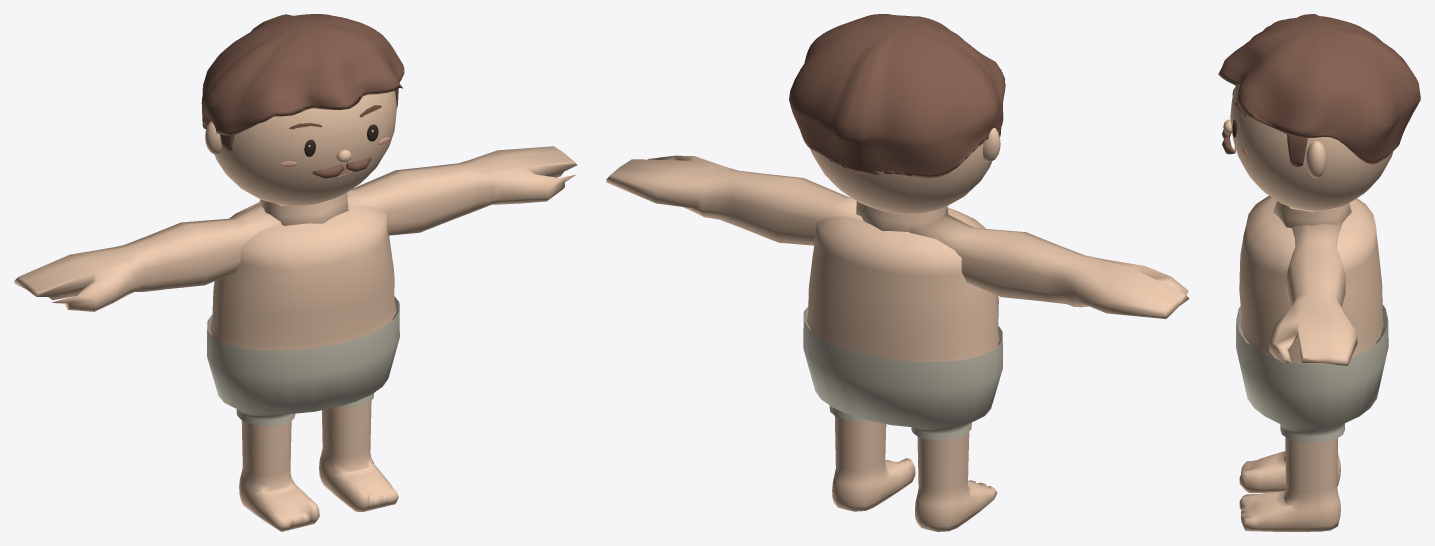
File: 1 karakter.fbx
3 renders of one model, left to right at view 1: azimuth 30°, elevation 25°; view 2: azimuth 150°, elevation 25°; view 3: azimuth 270°, elevation 25°, orthographic. The views are drawn at different scales.
Visible parts, largest first — view 1: Erkek – İç Çamaşırlı – Karakter_1_İç_Çamaşırlı_Karakter, Erkek – İç Çamaşırlı – Karakter_1_İç_Çamaşırlı_Yuvarlak_Baş, Erkek – İç Çamaşırlı – Karakter_1_İç_Çamaşırlı_Örtücü_İç_Çam; view 2: Erkek – İç Çamaşırlı – Karakter_1_İç_Çamaşırlı_Karakter, Erkek – İç Çamaşırlı – Karakter_1_İç_Çamaşırlı_Yuvarlak_Baş, Erkek – İç Çamaşırlı – Karakter_1_İç_Çamaşırlı_Örtücü_İç_Çam; view 3: Erkek – İç Çamaşırlı – Karakter_1_İç_Çamaşırlı_Karakter, Erkek – İç Çamaşırlı – Karakter_1_İç_Çamaşırlı_Yuvarlak_Baş, Erkek – İç Çamaşırlı – Karakter_1_İç_Çamaşırlı_Örtücü_İç_Çam.
Part boxes in pixels (box(x1,y1,x2,y2)): Erkek – İç Çamaşırlı – Karakter_1_İç_Çamaşırlı_Karakter: box(14, 146, 577, 531); Erkek – İç Çamaşırlı – Karakter_1_İç_Çamaşırlı_Yuvarlak_Baş: box(201, 14, 404, 205); Erkek – İç Çamaşırlı – Karakter_1_İç_Çamaşırlı_Örtücü_İç_Çam: box(207, 297, 399, 426); Erkek – İç Çamaşırlı – Karakter_1_İç_Çamaşırlı_Karakter: box(606, 155, 1189, 531); Erkek – İç Çamaşırlı – Karakter_1_İç_Çamaşırlı_Yuvarlak_Baş: box(789, 14, 1005, 214); Erkek – İç Çamaşırlı – Karakter_1_İç_Çamaşırlı_Örtücü_İç_Çam: box(803, 306, 1002, 440); Erkek – İç Çamaşırlı – Karakter_1_İç_Çamaşırlı_Karakter: box(1239, 196, 1383, 531); Erkek – İç Çamaşırlı – Karakter_1_İç_Çamaşırlı_Yuvarlak_Baş: box(1218, 14, 1420, 210); Erkek – İç Çamaşırlı – Karakter_1_İç_Çamaşırlı_Örtücü_İç_Çam: box(1236, 304, 1388, 442).
Size of the model in its own units: 9.16 by 7.6 by 2.92.
